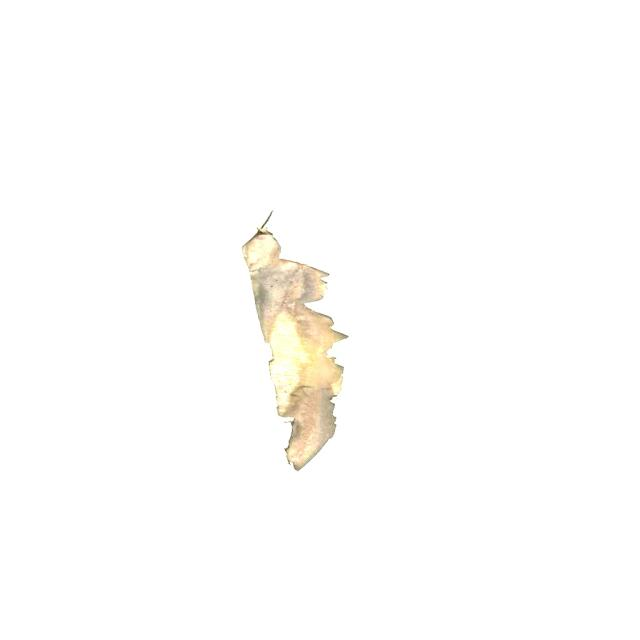surface_peeling: (235, 206, 348, 475)
